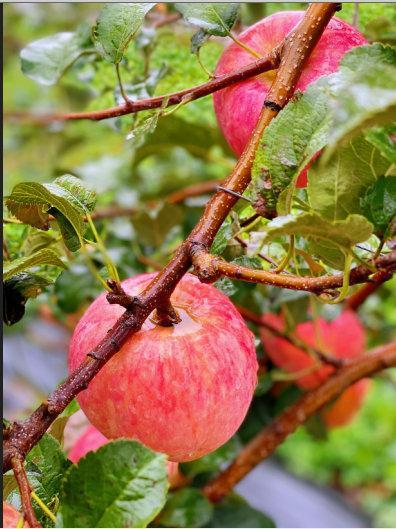apple: (66, 268, 263, 461), (209, 12, 376, 161)
